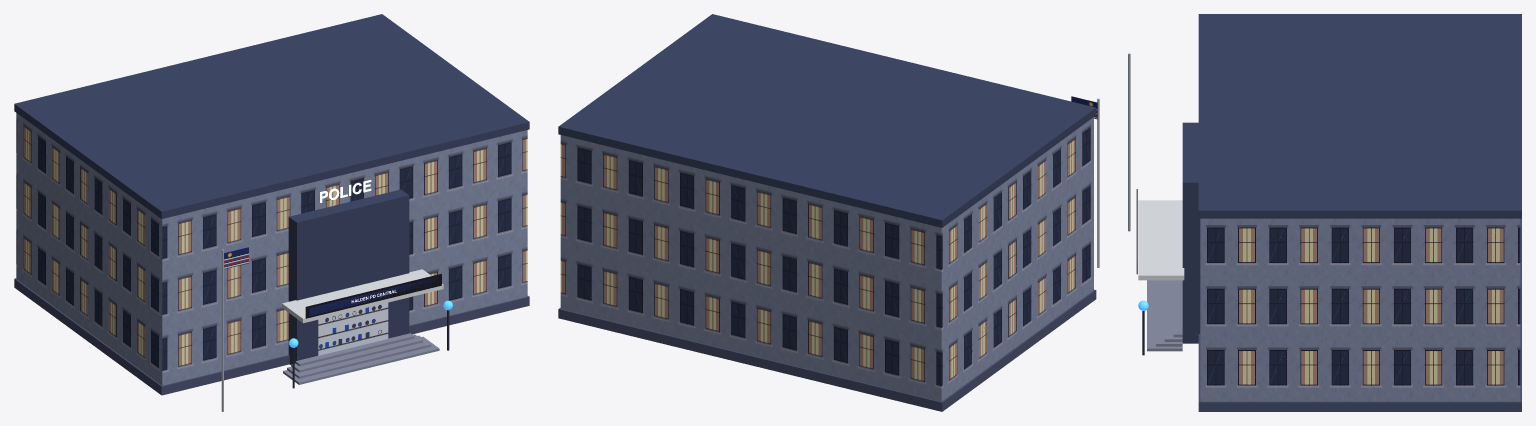
The model's file is police_station.glb.
The picture shows the model from 3 angles, left to right: view 1: azimuth 30°, elevation 25°; view 2: azimuth 150°, elevation 25°; view 3: azimuth 270°, elevation 25°; orthographic projection. The views are drawn at different scales.
Visible parts, largest first — view 1: police_station; view 2: police_station; view 3: police_station.
Part boxes in pixels (x1=…): police_station: x1=14, y1=14, x2=529, y2=411; police_station: x1=558, y1=14, x2=1099, y2=411; police_station: x1=1128, y1=14, x2=1521, y2=411.
Size of the model in its own units: 26.2 by 12.5 by 22.17.
Materials: 16 (5 with a texture image).
